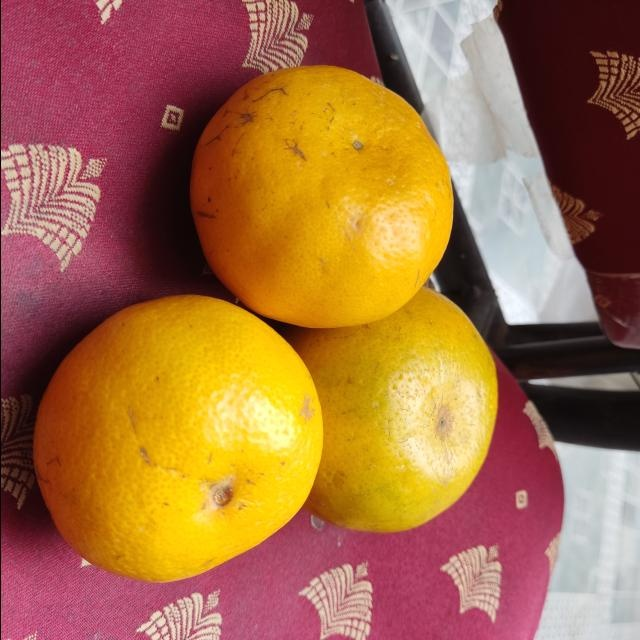agrume: (32, 292, 324, 588), (190, 62, 452, 328), (286, 287, 498, 535)
